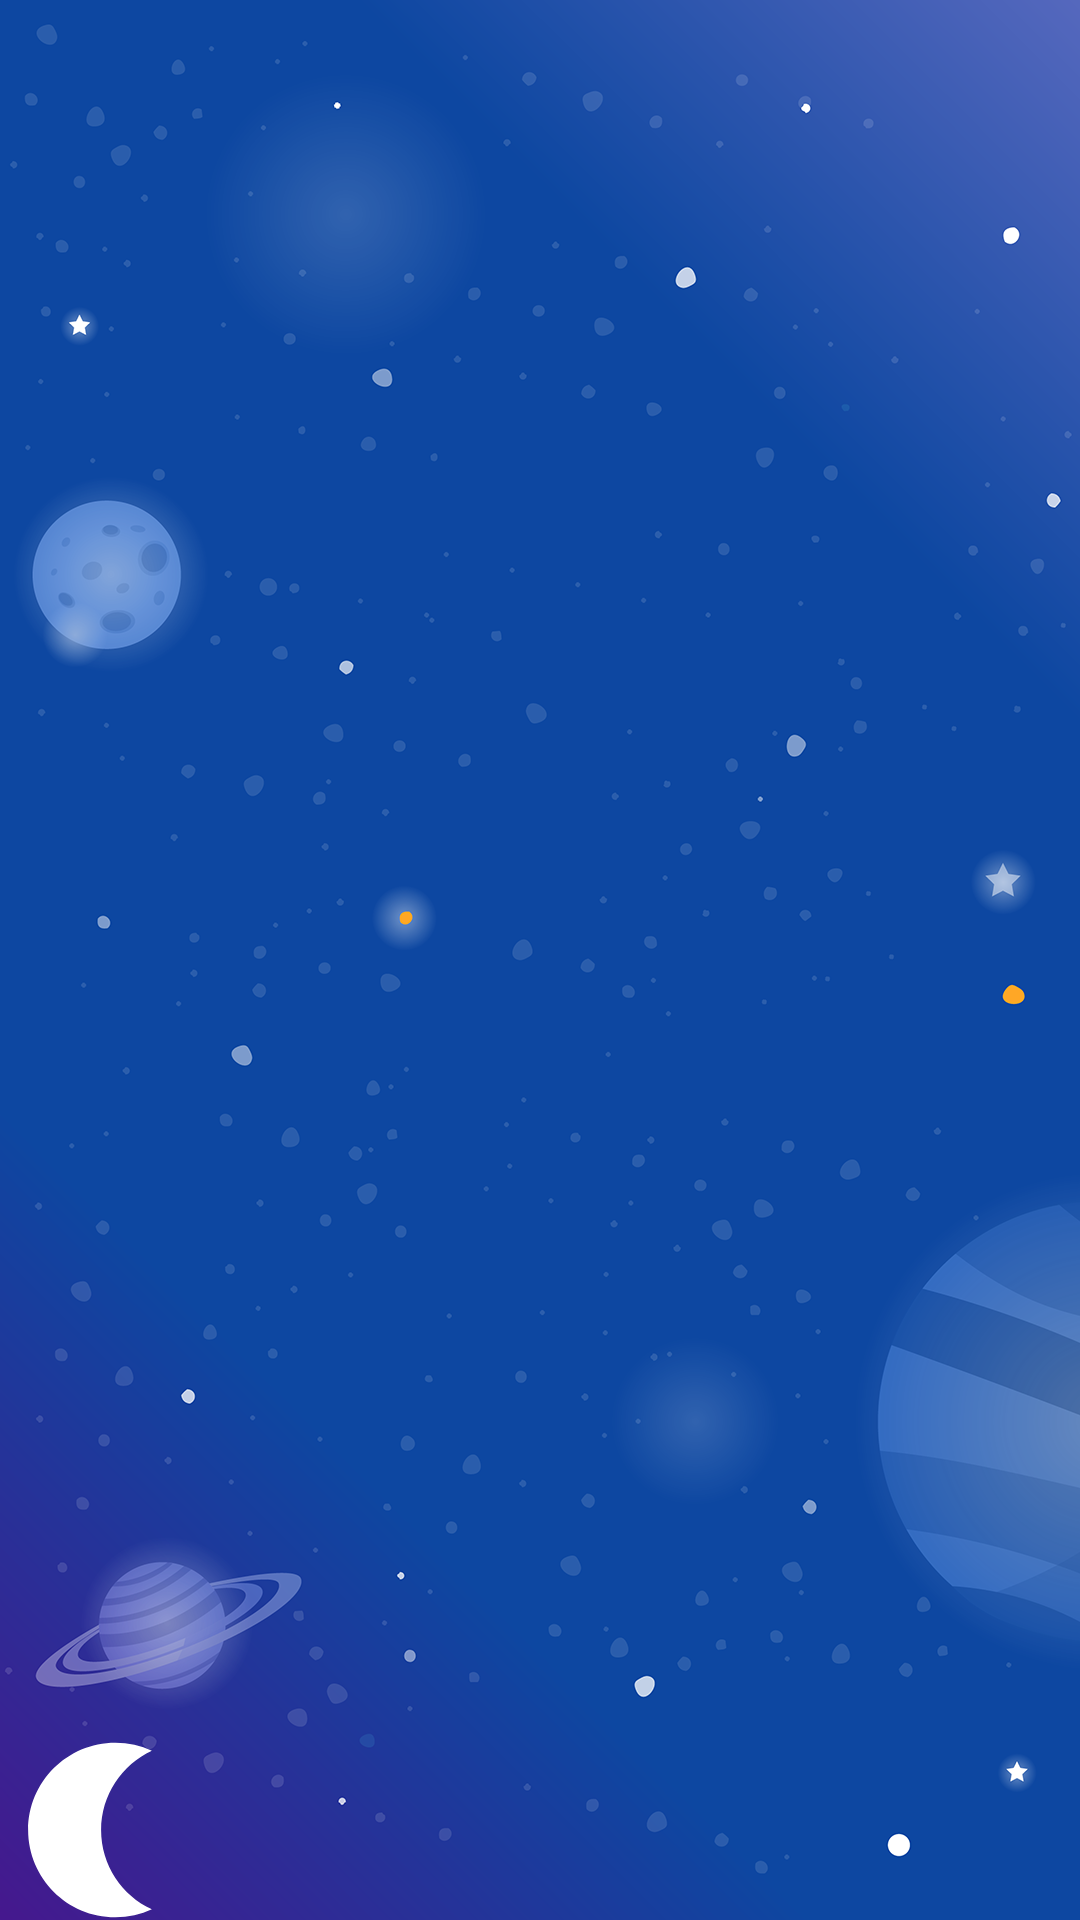

Screen size 1080px×1920px. Icon name, then its box in pixels as [x1,y1,x2,y2]:
moon: [28,1740,156,1918]
